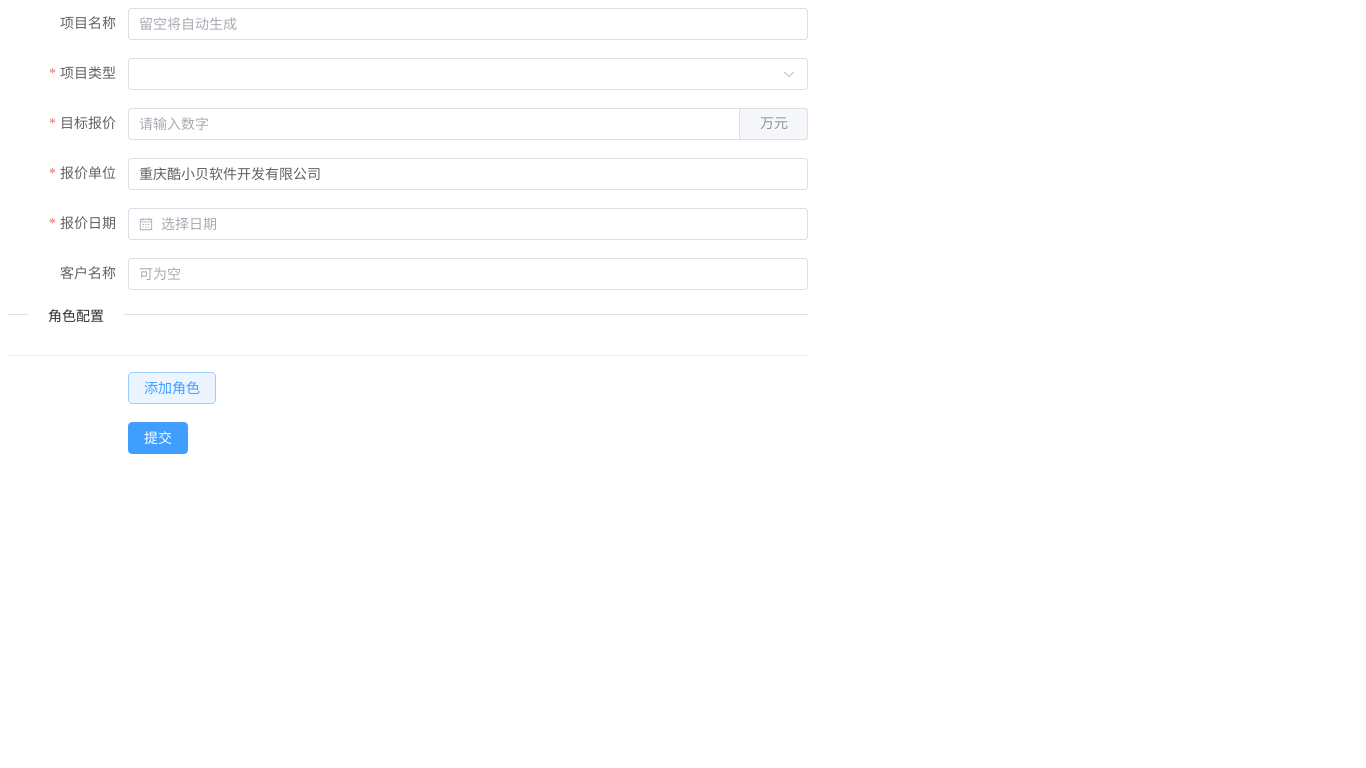
ProjectForm › allows opening add role dialog
Click the button "添加角色" at point(172, 388), box top-left (128, 372), bottom-right (216, 404)
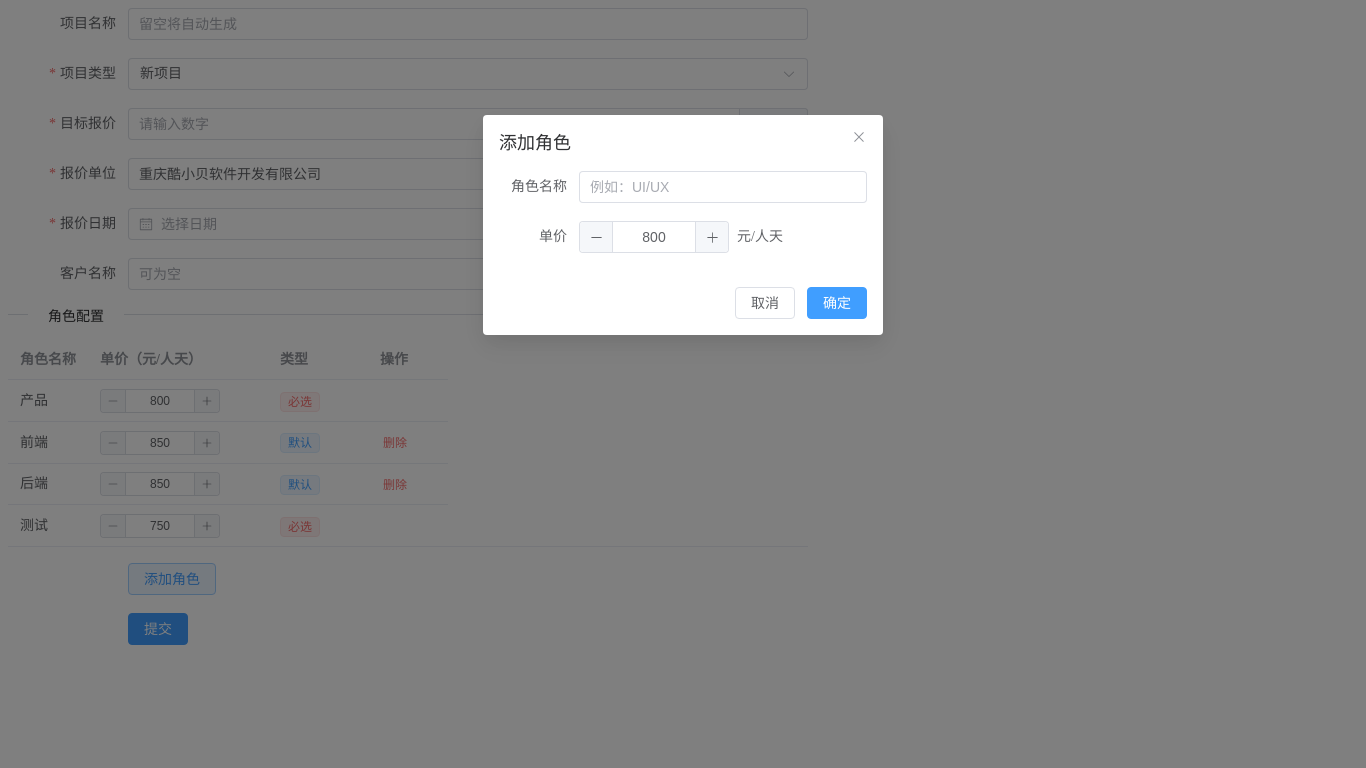
Expected: the element showing "添加角色 角色名称 单价 元/人天 取消 确定" is shown, top-left (483, 115), bottom-right (883, 335)
